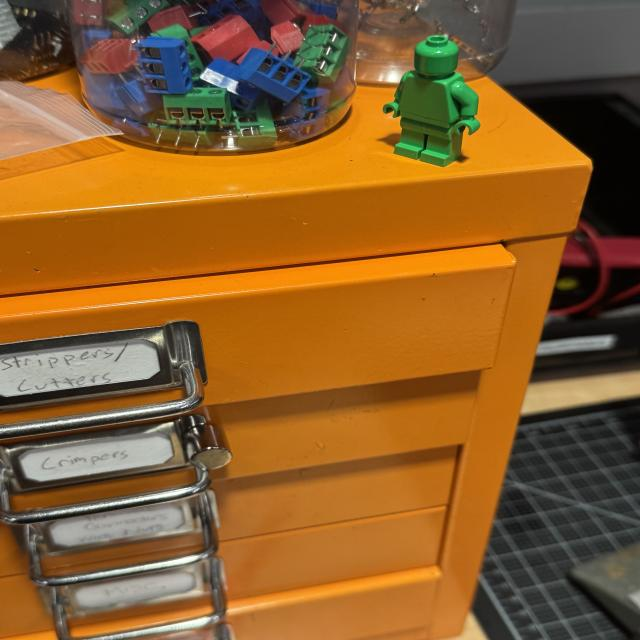Green Mini Figure: (383, 35, 480, 167)
